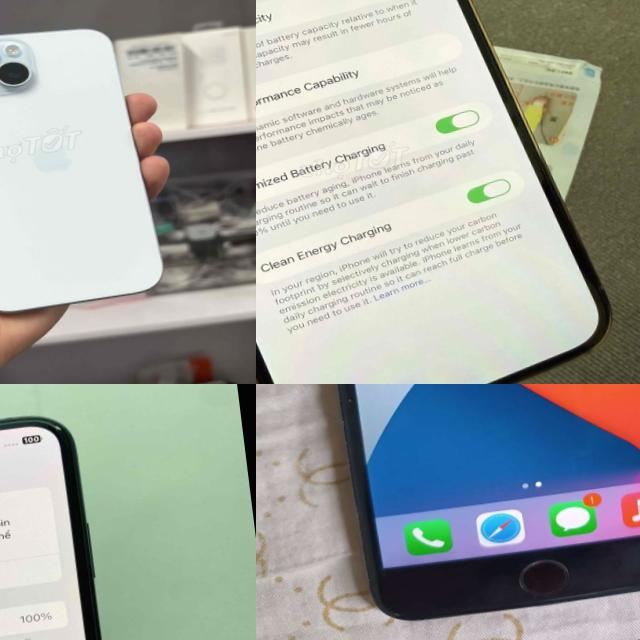scratch: (342, 390, 358, 407)
